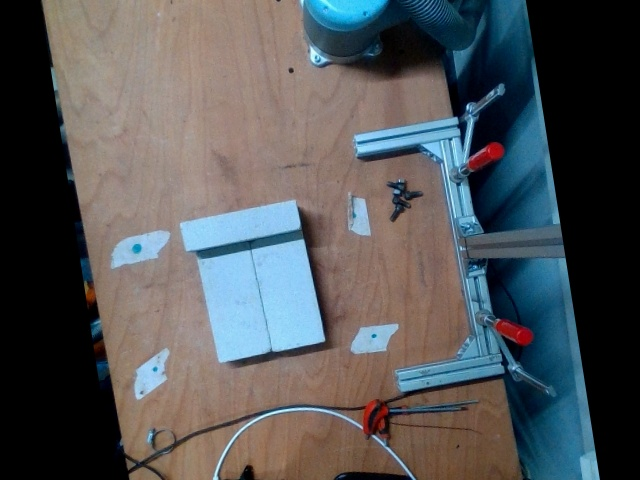brick-side: (177, 197, 302, 253)
